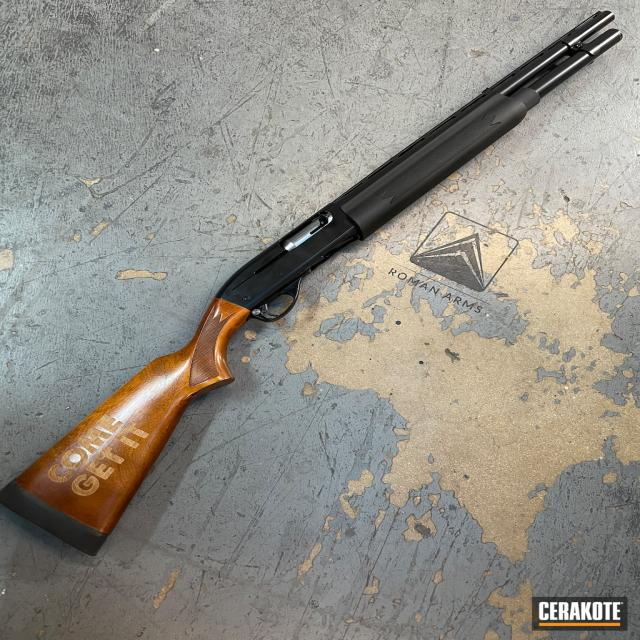ShotGun: (0, 11, 623, 555)
